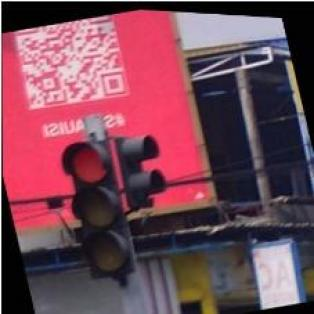Semaforo Rojo: (56, 133, 140, 282)
